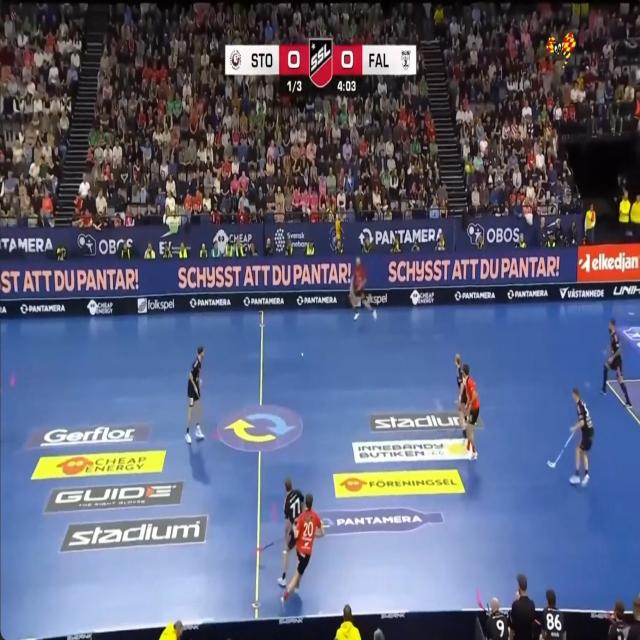Balls: (301, 352, 303, 355)
player: (281, 494, 323, 602), (278, 477, 303, 587), (601, 319, 631, 407), (570, 387, 594, 485), (185, 347, 204, 444), (349, 257, 376, 319), (462, 363, 479, 459), (540, 588, 565, 639), (487, 597, 509, 639), (455, 354, 466, 438)
stick: (547, 431, 574, 467), (476, 589, 489, 612), (257, 542, 274, 552), (535, 620, 540, 624)
